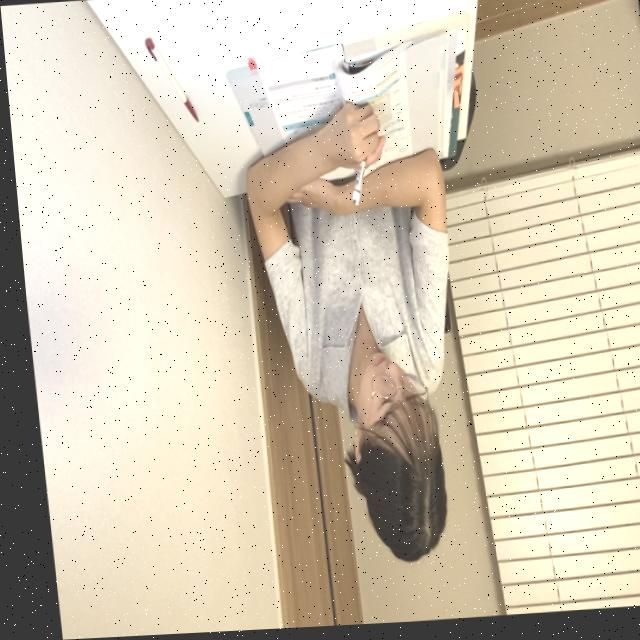studying-person: (208, 8, 520, 581)
